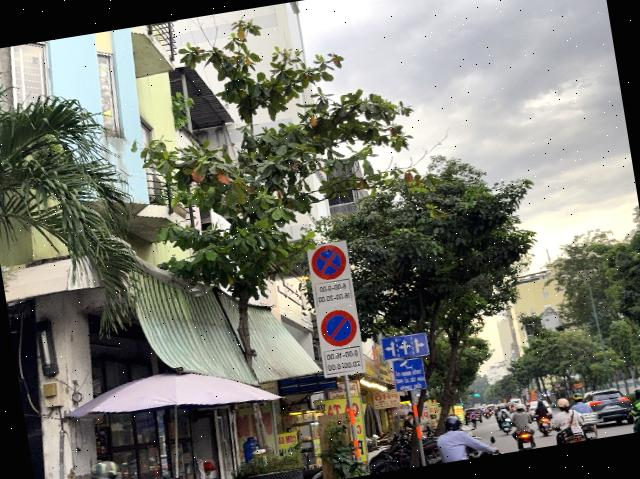cam-do-xe: (318, 308, 359, 350)
cam-dung-va-do-xe: (308, 242, 348, 282)
